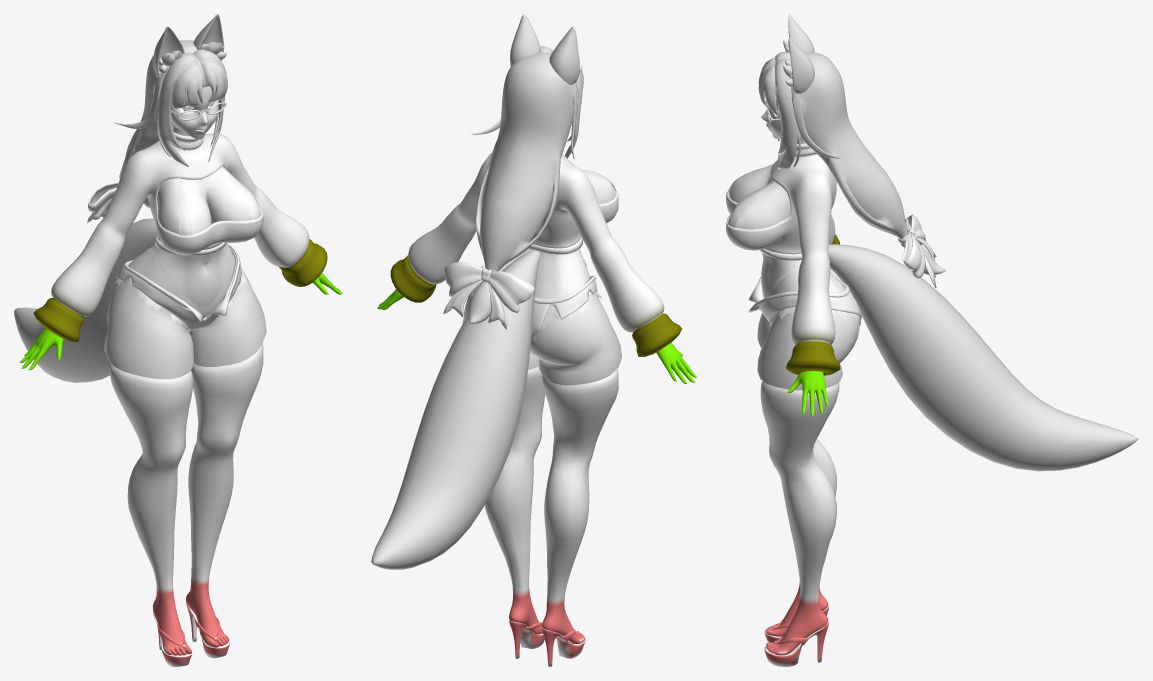
The model's file is CHARACTER MODEL - KAYLA.fbx.
The picture shows the model from 3 angles, left to right: view 1: azimuth 30°, elevation 25°; view 2: azimuth 150°, elevation 25°; view 3: azimuth 270°, elevation 25°; orthographic projection.
Parts seen in each view (by area): view 1: THIGH_HIGHS, BODY, SWEATER, TAIL, HAIR_FRONT, MINI_SHORTS, HAIR_BACK, FACE, EARS, HIGHHEELS, BRA, RIBBON (+2 smaller); view 2: TAIL, THIGH_HIGHS, HAIR_BACK, SWEATER, BODY, RIBBON, EARS, MINI_SHORTS, HIGHHEELS, HAIR_FRONT; view 3: TAIL, THIGH_HIGHS, SWEATER, HAIR_BACK, BODY, HAIR_FRONT, MINI_SHORTS, EARS, RIBBON, HIGHHEELS.
Boxes of the visible parts, bbox=[...] form: THIGH_HIGHS: bbox=[108, 343, 263, 655]; BODY: bbox=[19, 123, 342, 379]; SWEATER: bbox=[33, 132, 327, 341]; TAIL: bbox=[14, 218, 157, 382]; HAIR_FRONT: bbox=[157, 49, 227, 166]; MINI_SHORTS: bbox=[114, 243, 247, 331]; HAIR_BACK: bbox=[114, 40, 197, 179]; FACE: bbox=[171, 86, 218, 139]; EARS: bbox=[153, 14, 224, 78]; HIGHHEELS: bbox=[153, 601, 230, 666]; BRA: bbox=[175, 167, 261, 235]; RIBBON: bbox=[86, 182, 149, 223]; TAIL: bbox=[371, 250, 539, 569]; THIGH_HIGHS: bbox=[484, 366, 618, 643]; HAIR_BACK: bbox=[468, 52, 578, 323]; SWEATER: bbox=[390, 153, 682, 356]; BODY: bbox=[377, 171, 697, 385]; RIBBON: bbox=[443, 261, 534, 329]; EARS: bbox=[510, 14, 579, 84]; MINI_SHORTS: bbox=[470, 264, 602, 345]; HIGHHEELS: bbox=[509, 621, 585, 666]; HAIR_FRONT: bbox=[540, 46, 583, 158]; TAIL: bbox=[828, 244, 1138, 471]; THIGH_HIGHS: bbox=[760, 381, 839, 655]; SWEATER: bbox=[726, 143, 840, 375]; HAIR_BACK: bbox=[791, 52, 945, 274]; BODY: bbox=[729, 135, 859, 416]; HAIR_FRONT: bbox=[758, 52, 800, 169]; MINI_SHORTS: bbox=[748, 277, 861, 326]; EARS: bbox=[788, 14, 814, 93]; RIBBON: bbox=[898, 214, 936, 288]; HIGHHEELS: bbox=[764, 605, 828, 666].
Bounding box in the file's own units: 93.89 × 179 × 107.
